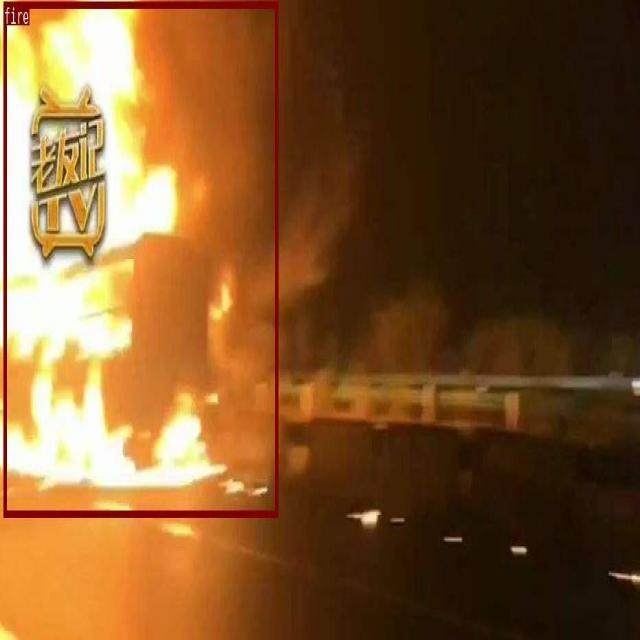fire: (3, 2, 278, 517)
